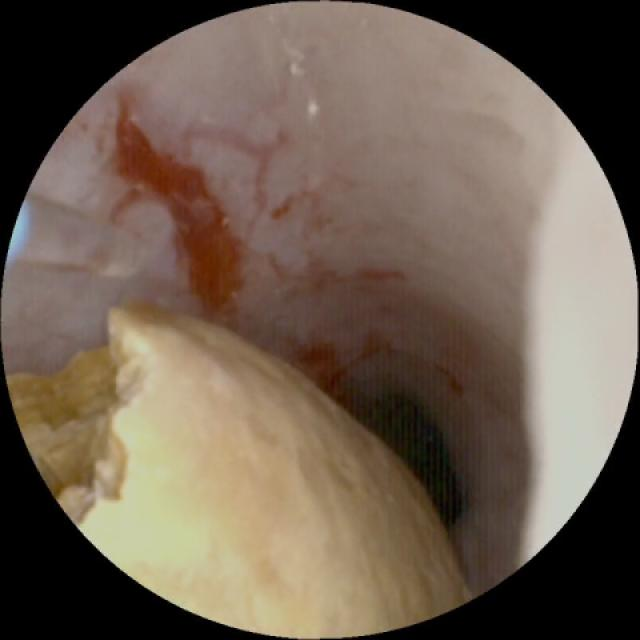stone: (19, 304, 465, 628)
tissue: (19, 18, 626, 555)
